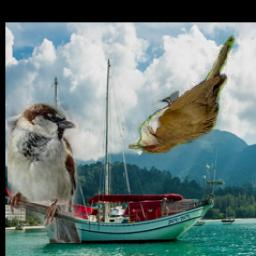Cuckoo: (127, 35, 234, 155)
Sparrow: (6, 101, 80, 244)
